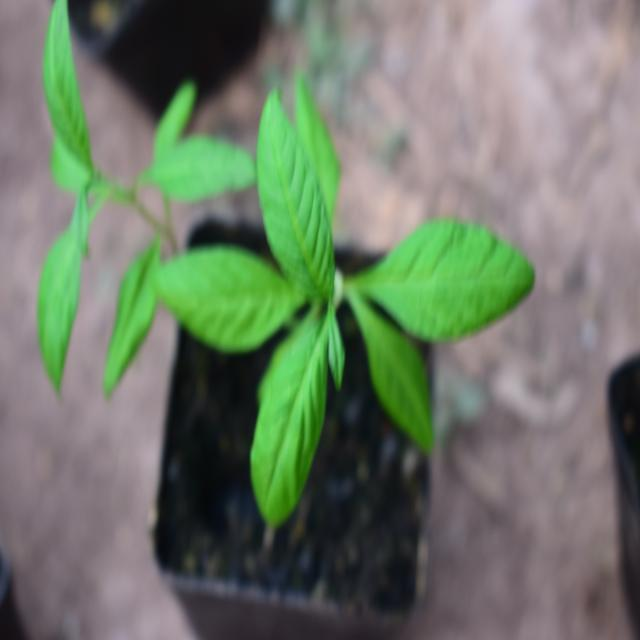white_smart_weed: (178, 124, 559, 523)
